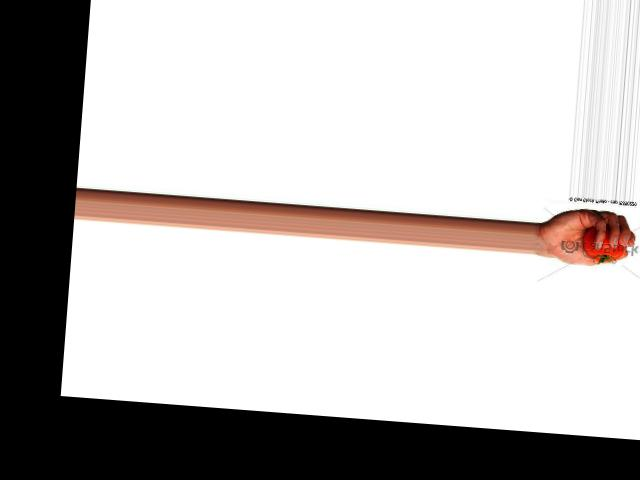tomato: (583, 223, 628, 263)
